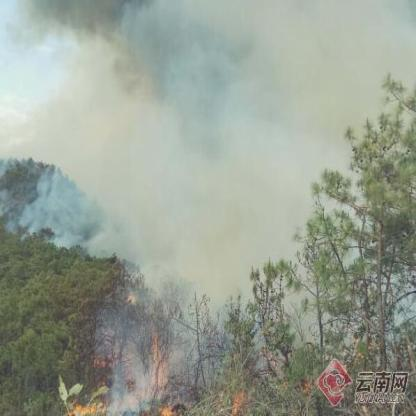fire: (143, 325, 177, 394), (66, 395, 107, 413), (222, 378, 246, 408), (156, 401, 176, 414), (299, 376, 314, 392)
smoke: (66, 70, 308, 252), (257, 11, 403, 123)
